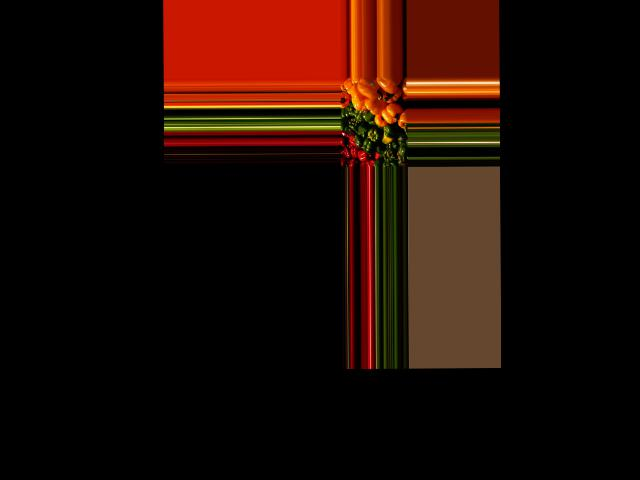bell_pepper: (397, 150, 408, 166)
